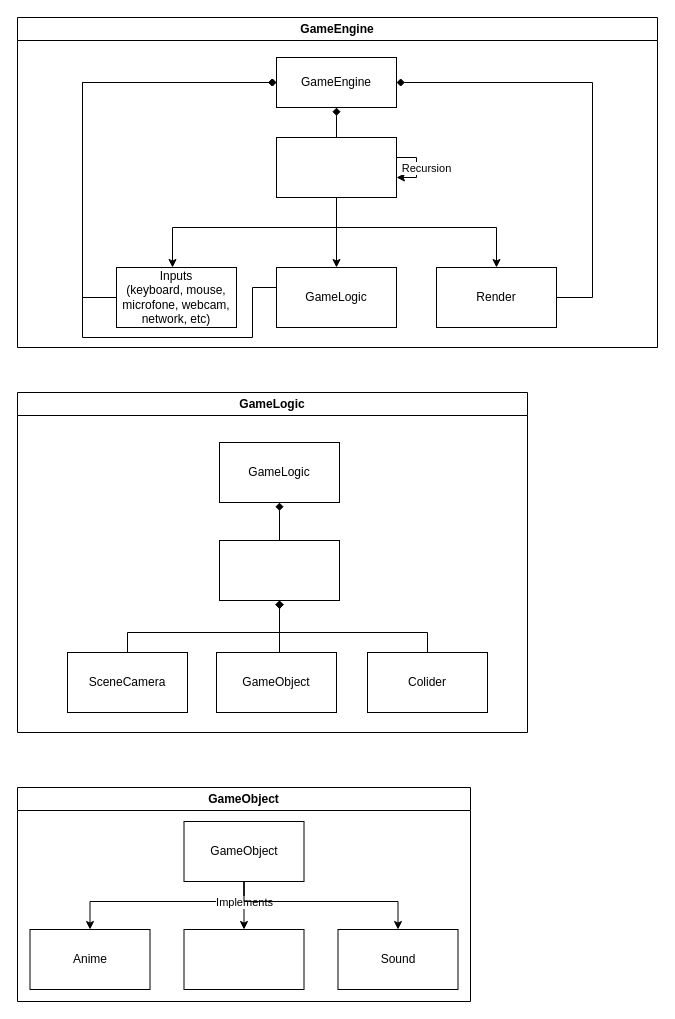
This 675x1019 diagram has some shape labels left out. Here are the shapes that lost their labels. From the top down, the centre of each, then its label:
point (336, 167): EngineLoop (update all states)
point (279, 570): GameScene
point (243, 959): Colision
